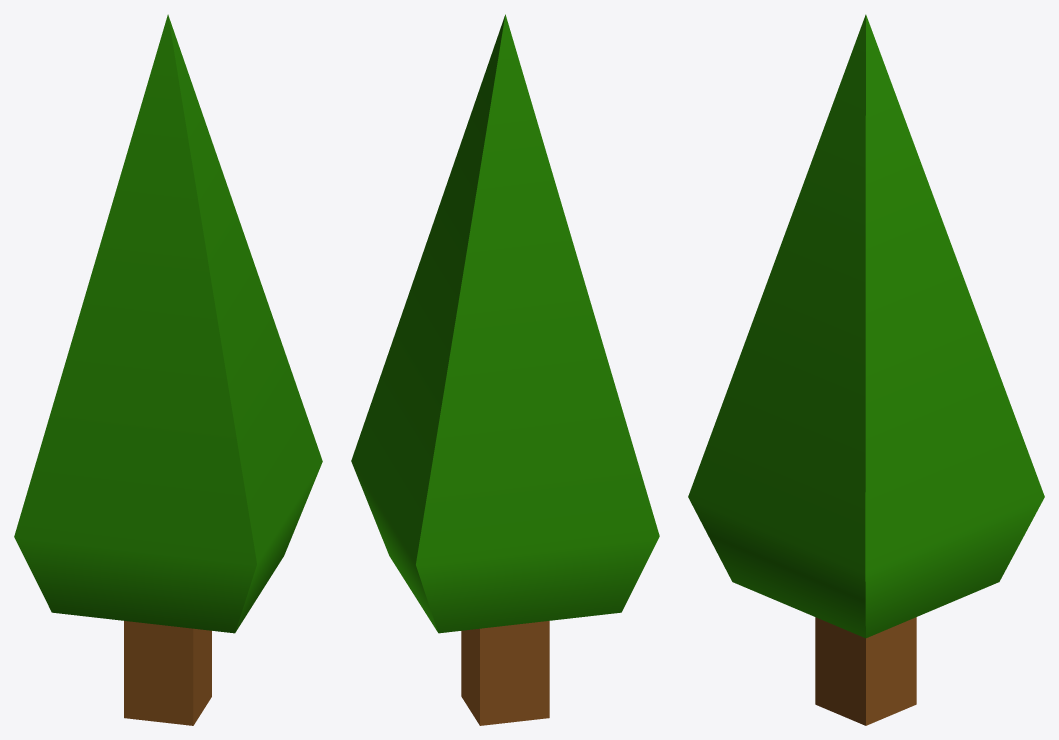
Rendered from PineTree.fbx.
3 views of the same model, side by side, from view 1: azimuth 30°, elevation 25°; view 2: azimuth 150°, elevation 25°; view 3: azimuth 270°, elevation 25° (orthographic).
Parts seen in each view (by area): view 1: PineTree; view 2: PineTree; view 3: PineTree.
Boxes of the visible parts, left/top/right/bottom form: PineTree: left=14, top=14, right=322, bottom=725; PineTree: left=351, top=14, right=659, bottom=725; PineTree: left=688, top=14, right=1044, bottom=725.
Bounding box in the file's own units: 157 × 337 × 158.
1 material, 1 textured.
